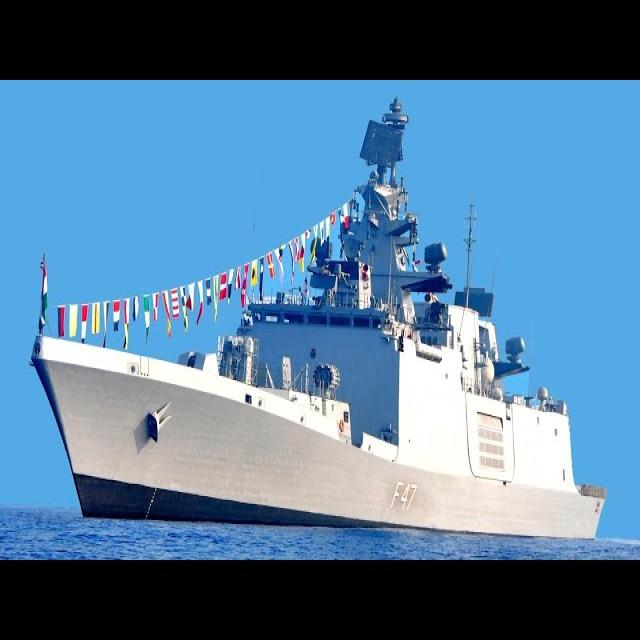Frigate-Shivalik-Class-IND: (29, 90, 608, 537)
